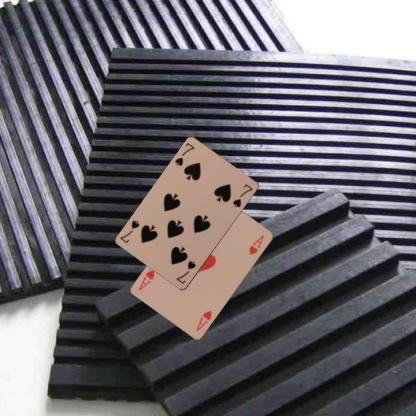7s: (173, 258, 197, 286), (172, 140, 196, 168)
Ah: (193, 308, 213, 332)
